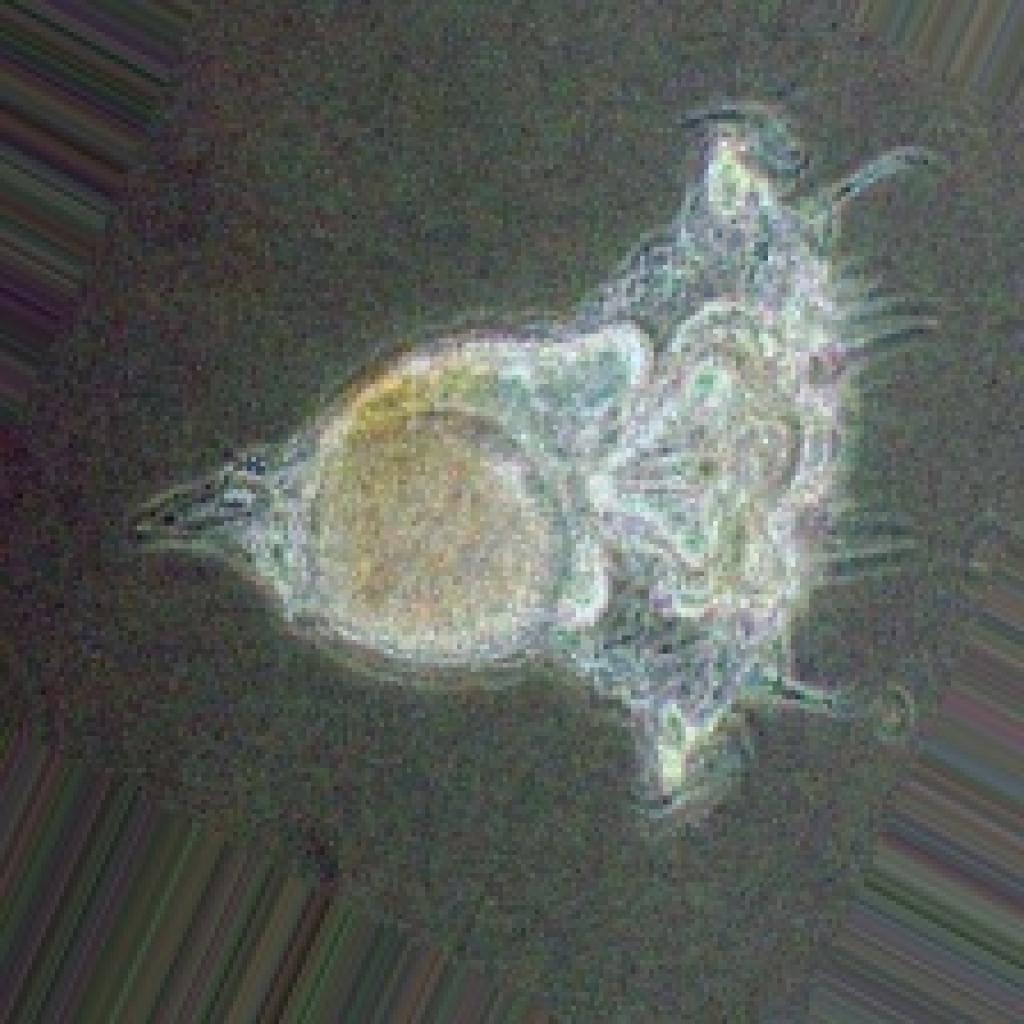Rotifer: (71, 80, 979, 848)
